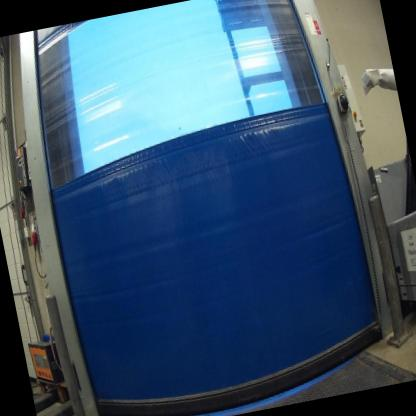pallet: (32, 368, 80, 416)
